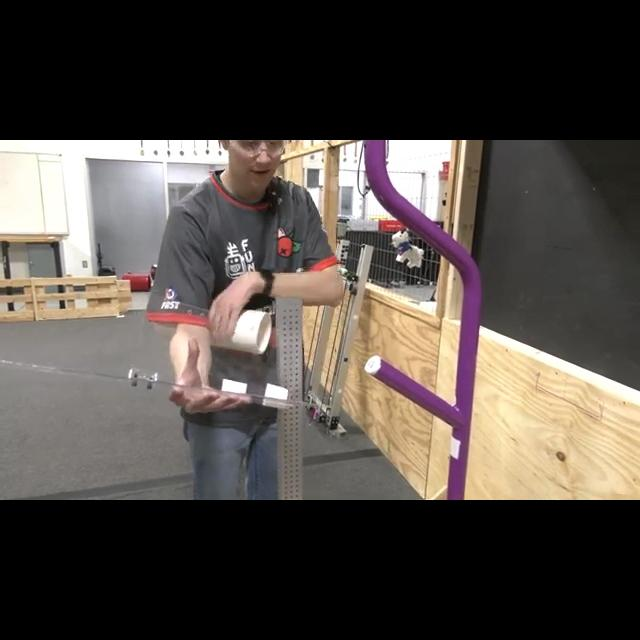CORAL: (208, 308, 272, 357)
